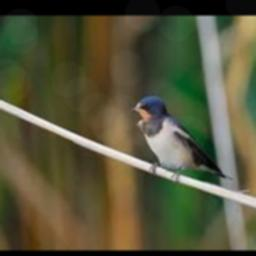Swallow: (128, 96, 232, 182)
